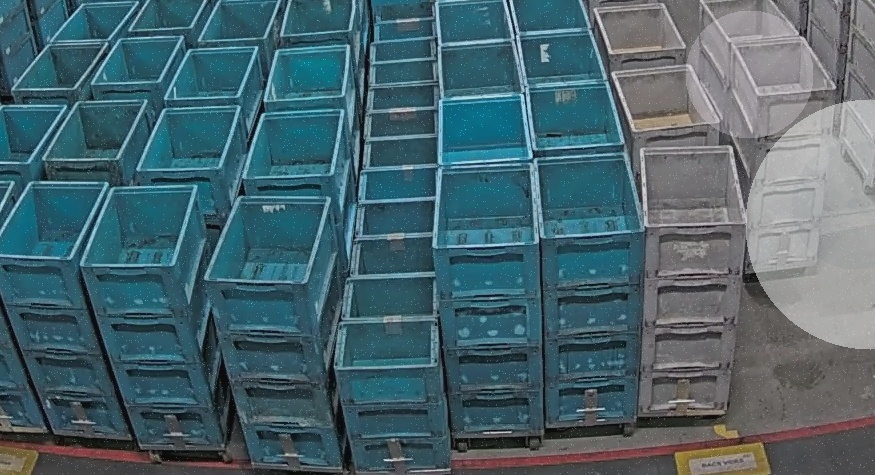4G: (639, 143, 749, 416), (728, 36, 836, 276)
B4: (78, 183, 233, 451), (206, 190, 346, 470), (0, 180, 131, 437), (532, 152, 643, 426), (432, 161, 543, 434)
B8: (334, 270, 453, 471)
